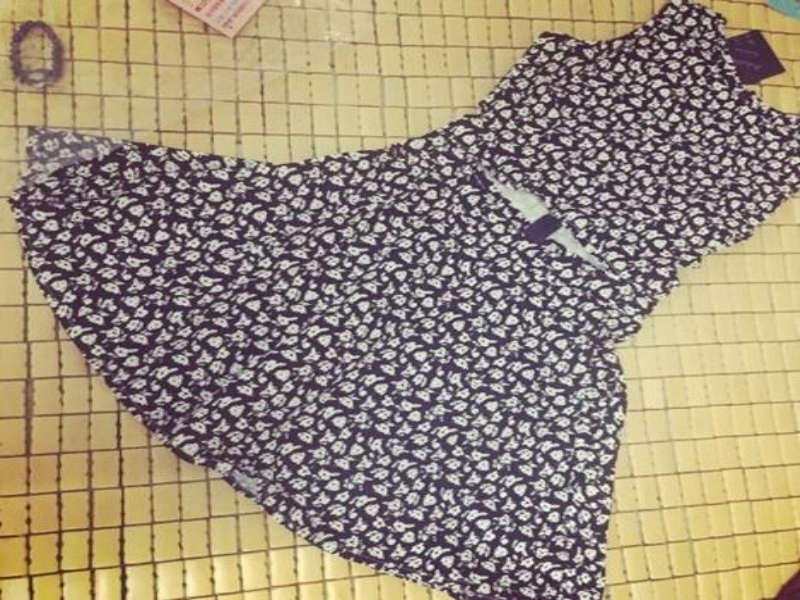vest_dress: (12, 3, 798, 599)
